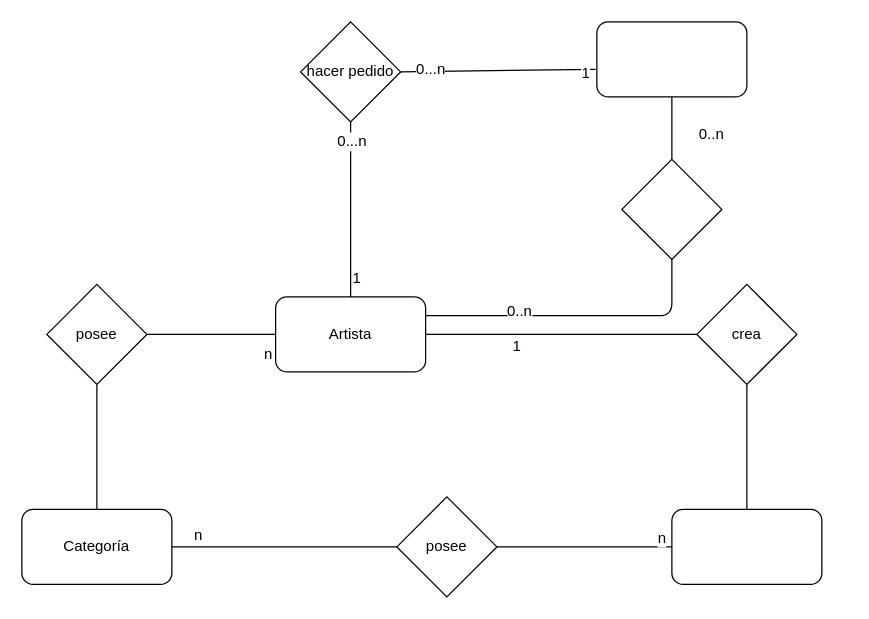
Image size: 869x619. Some labels were removed from this diagram. The box of each missing label's shape, as (x1, y1, x2, y2) in pixels:
Calificar: (621, 158, 722, 259)
obra: (671, 508, 822, 584)
usuario: (596, 21, 747, 97)
